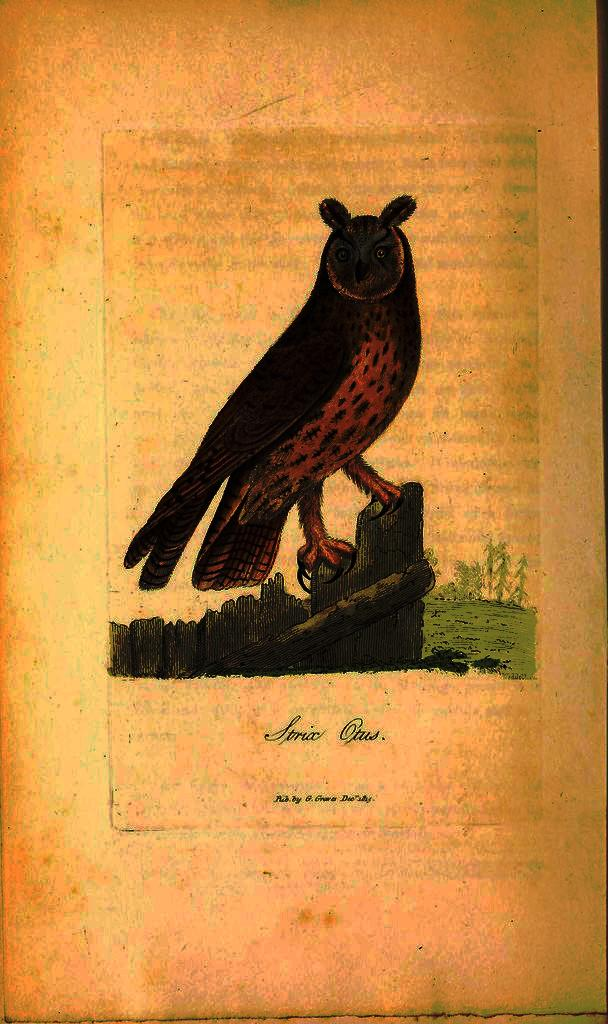Owl: (127, 189, 428, 583)
